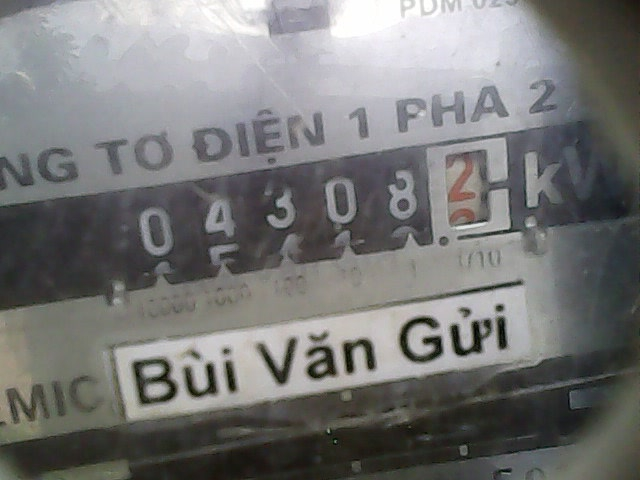phy_plate: (98, 130, 520, 277)
